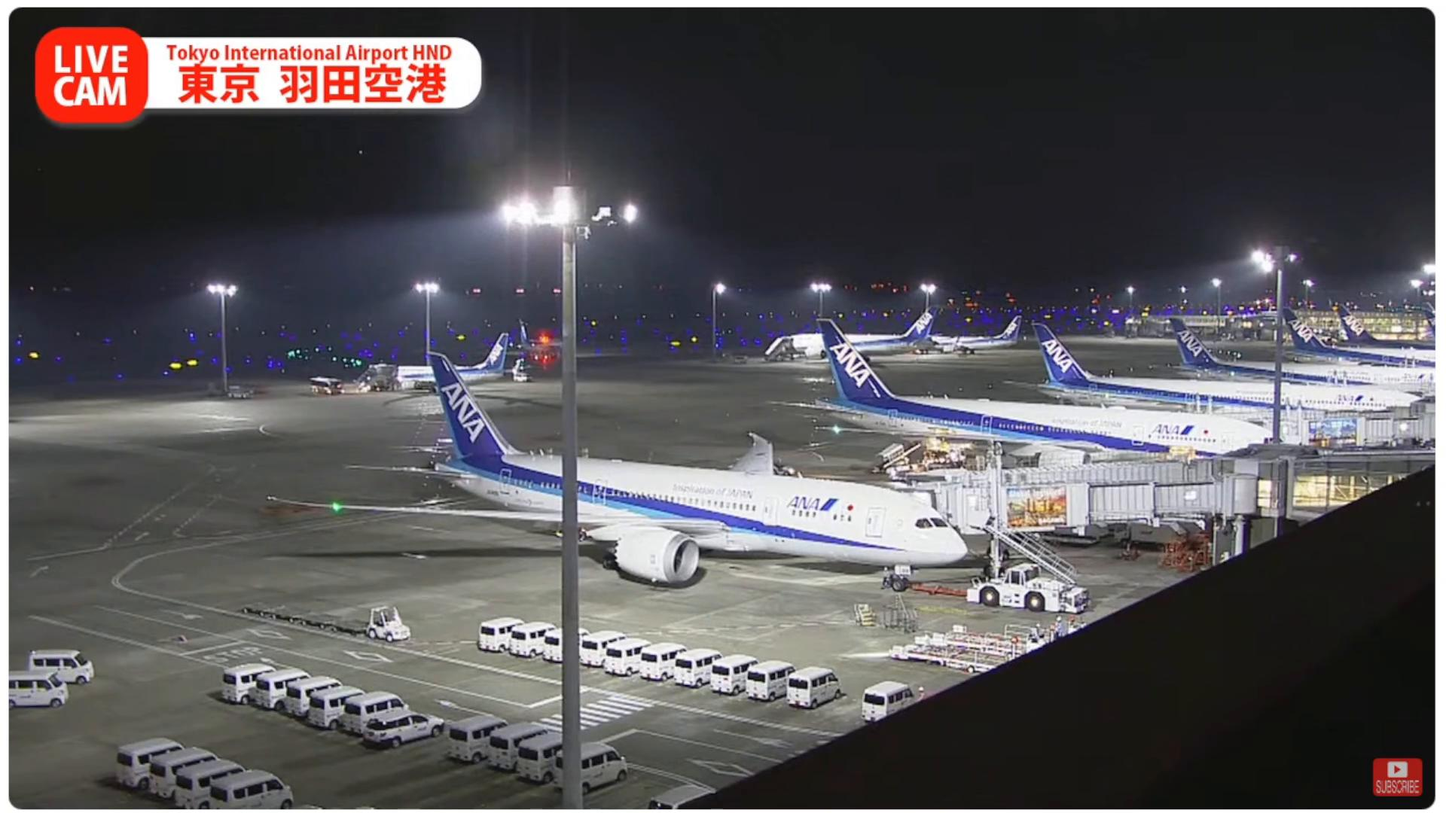APS: (966, 563, 1092, 617)
Aerobridge: (895, 475, 1256, 534), (800, 456, 1224, 487)
Airplane: (269, 351, 970, 589)
Dolly: (244, 600, 367, 637)
JCPL: (912, 624, 1048, 657), (889, 640, 1014, 673), (747, 584, 750, 584)
Tractor: (367, 604, 412, 640)
Window: (1290, 455, 1437, 521)
